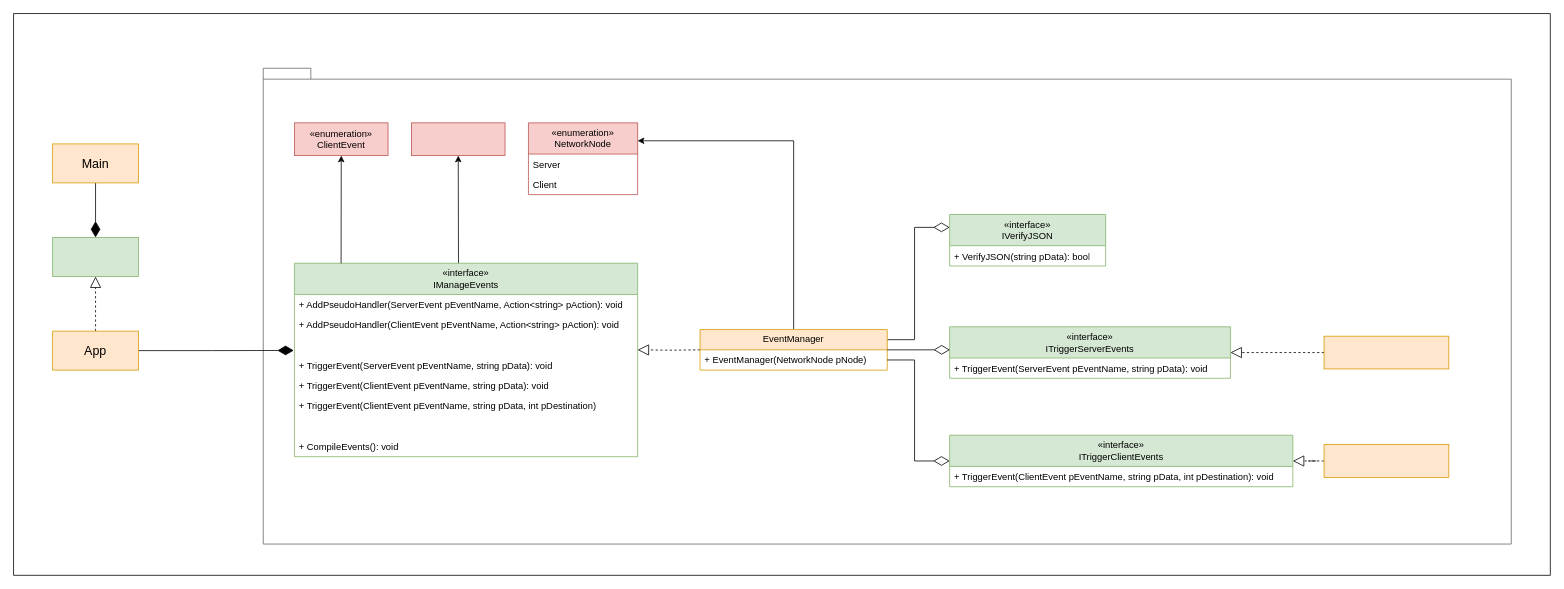
The diagram is 1564 pixels wide and 589 high, and some of its shapes have lost their labels. Here are the shapes that lost their labels. From the top down, the centre of each, then its label:
At (458,139): "«enumeration» ServerEvent".
At (95,257): "«interface» IApp".
At (1386,352): "ServerEventTriggerer".
At (1386,460): "ClientEventTriggerer".
